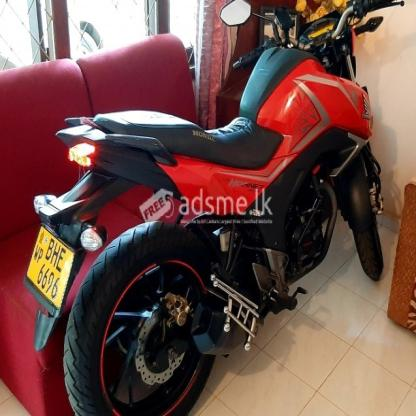bike back: (23, 0, 394, 416)
number plate: (33, 229, 67, 301)
